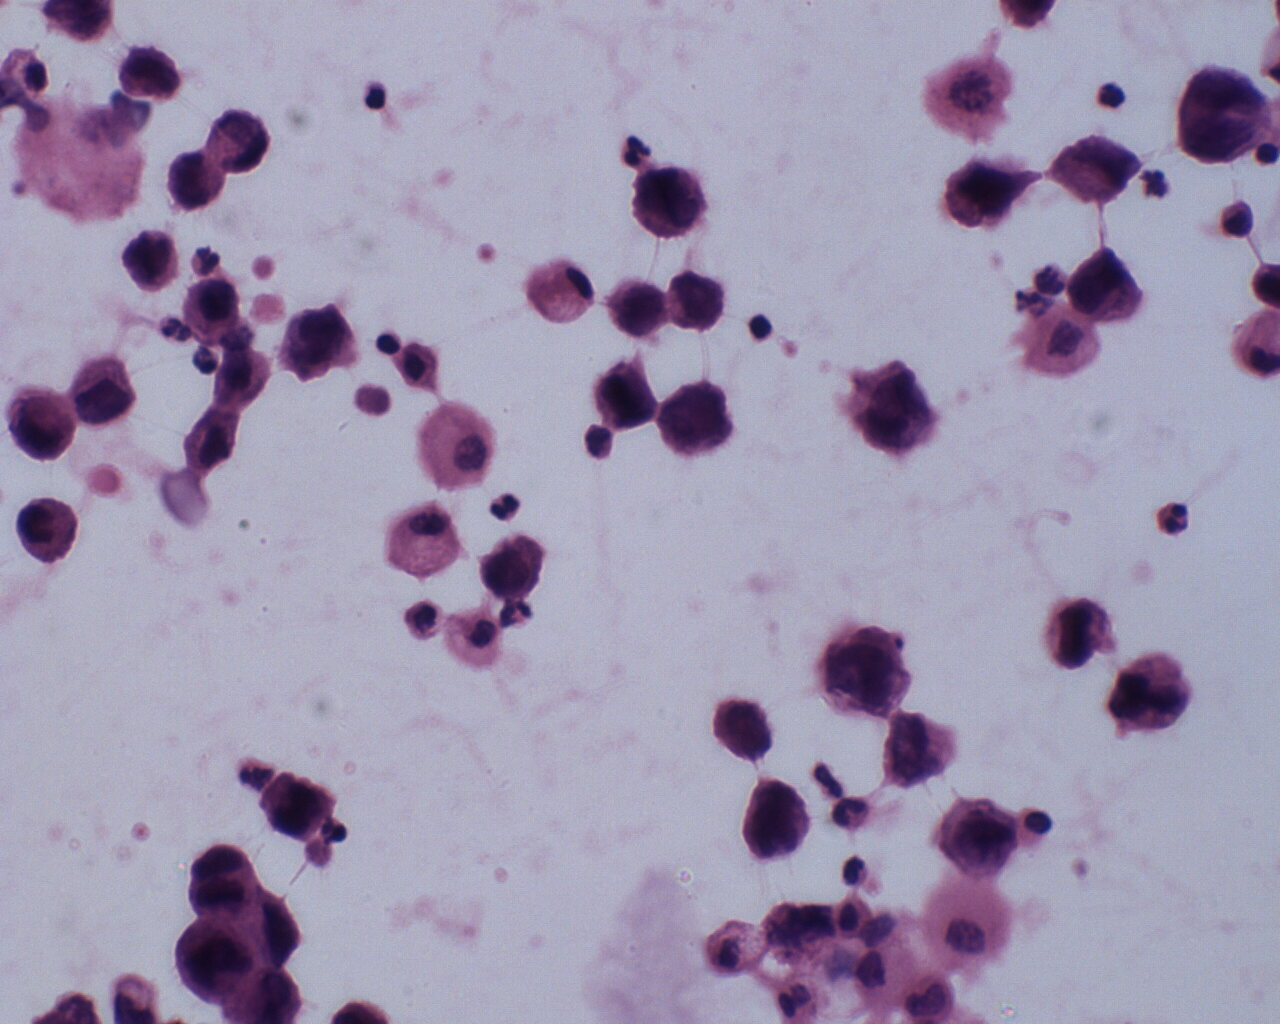ab: (1174, 62, 1269, 172), (817, 616, 916, 721), (1043, 125, 1141, 208), (173, 915, 258, 1006), (933, 795, 1020, 882), (736, 777, 815, 866), (1068, 240, 1148, 325), (259, 768, 343, 848), (583, 353, 664, 432), (628, 164, 711, 240), (476, 527, 555, 606), (655, 379, 735, 457), (5, 378, 75, 465), (661, 265, 730, 339), (225, 961, 304, 1024), (69, 355, 140, 425), (606, 270, 668, 347), (118, 39, 187, 104), (162, 149, 229, 216), (120, 225, 183, 295)
histo: (414, 398, 504, 492), (385, 502, 469, 585), (520, 255, 595, 327)
neutro: (483, 489, 526, 527), (1153, 498, 1190, 538), (159, 309, 191, 351), (187, 241, 223, 277)
